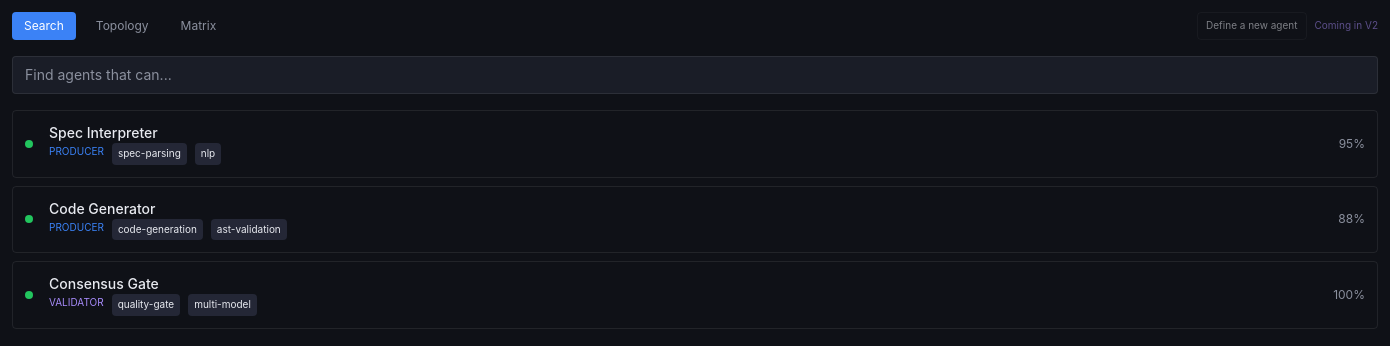
Test: AgentRoster (Phase 2) › filters agents by search text
Type "consensus" into the field with placeholder "Find agents that can...".
click(695, 75); type("consensus")  # box [12,56,1378,94]
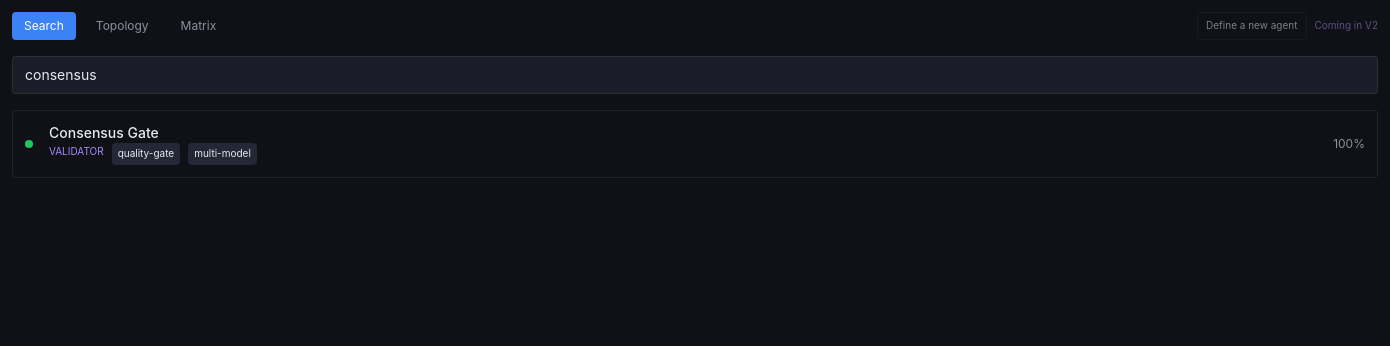
Expected: the text "Consensus Gate" is shown, [49,124,159,141]
Now the button "Spec Interpreter" is gone
